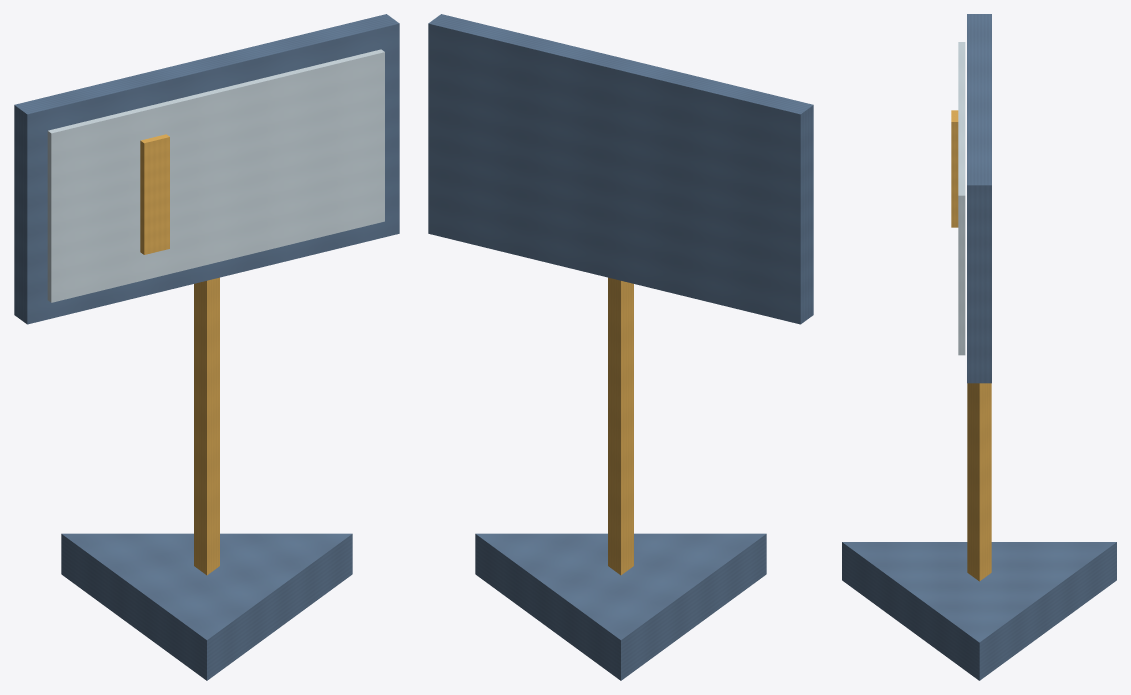
Rendered from atlas100-s053-a11.lod2.glb.
3 renders of one model, left to right at view 1: azimuth 30°, elevation 25°; view 2: azimuth 150°, elevation 25°; view 3: azimuth 270°, elevation 25°, orthographic. The views are drawn at different scales.
Parts seen in each view (by area): view 1: atlas100-s053-a11:part-003, atlas100-s053-a11:part-002, atlas100-s053-a11:part-000, atlas100-s053-a11:part-001, atlas100-s053-a11:part-004; view 2: atlas100-s053-a11:part-002, atlas100-s053-a11:part-000, atlas100-s053-a11:part-001; view 3: atlas100-s053-a11:part-000, atlas100-s053-a11:part-002, atlas100-s053-a11:part-001, atlas100-s053-a11:part-003, atlas100-s053-a11:part-004.
Part boxes in pixels (x1=…): atlas100-s053-a11:part-003: x1=47, y1=49, x2=384, y2=302; atlas100-s053-a11:part-002: x1=14, y1=14, x2=399, y2=324; atlas100-s053-a11:part-000: x1=61, y1=533, x2=352, y2=680; atlas100-s053-a11:part-001: x1=194, y1=277, x2=219, y2=575; atlas100-s053-a11:part-004: x1=140, y1=134, x2=169, y2=254; atlas100-s053-a11:part-002: x1=428, y1=14, x2=813, y2=324; atlas100-s053-a11:part-000: x1=475, y1=533, x2=766, y2=680; atlas100-s053-a11:part-001: x1=608, y1=277, x2=633, y2=575; atlas100-s053-a11:part-000: x1=842, y1=542, x2=1116, y2=680; atlas100-s053-a11:part-002: x1=967, y1=14, x2=991, y2=383; atlas100-s053-a11:part-001: x1=967, y1=383, x2=991, y2=581; atlas100-s053-a11:part-003: x1=958, y1=42, x2=965, y2=355; atlas100-s053-a11:part-004: x1=951, y1=110, x2=958, y2=227.
Bounding box in the file's own units: 1.15 × 1.61 × 0.7794.
3 materials, 3 textured.
